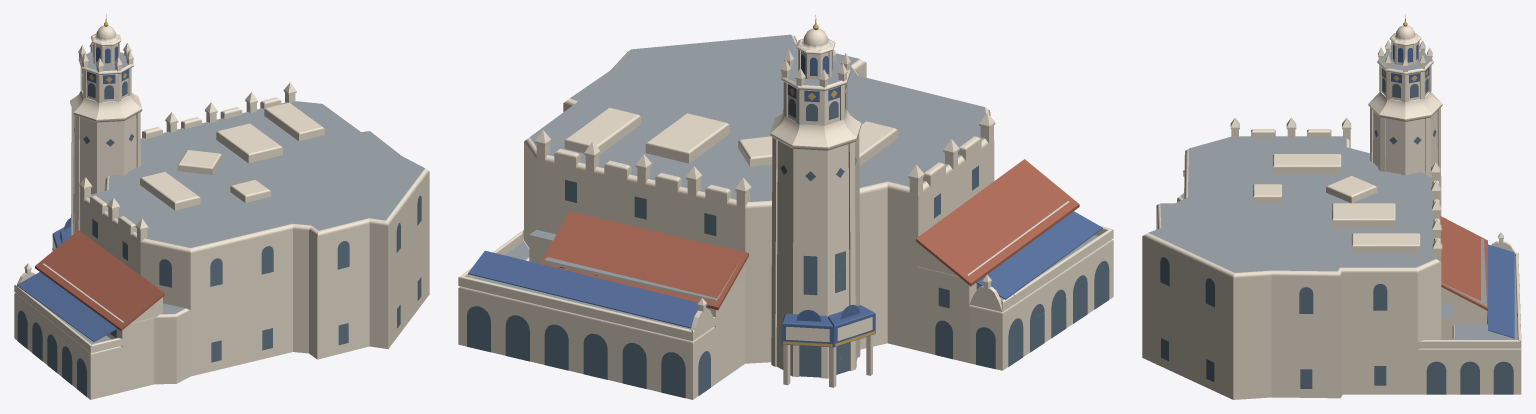
3 renders of one model, left to right at view 1: azimuth 30°, elevation 25°; view 2: azimuth 150°, elevation 25°; view 3: azimuth 270°, elevation 25°, orthographic. The views are drawn at different scales.
Visible parts, largest first — view 1: carthay-circle-theatre-disneyland; view 2: carthay-circle-theatre-disneyland; view 3: carthay-circle-theatre-disneyland.
Part boxes in pixels (<box>): carthay-circle-theatre-disneyland: <box>14,14,429,399</box>; carthay-circle-theatre-disneyland: <box>458,15,1113,399</box>; carthay-circle-theatre-disneyland: <box>1142,14,1521,399</box>.
Bounding box in the file's own units: 42 × 30.38 × 38.41.
